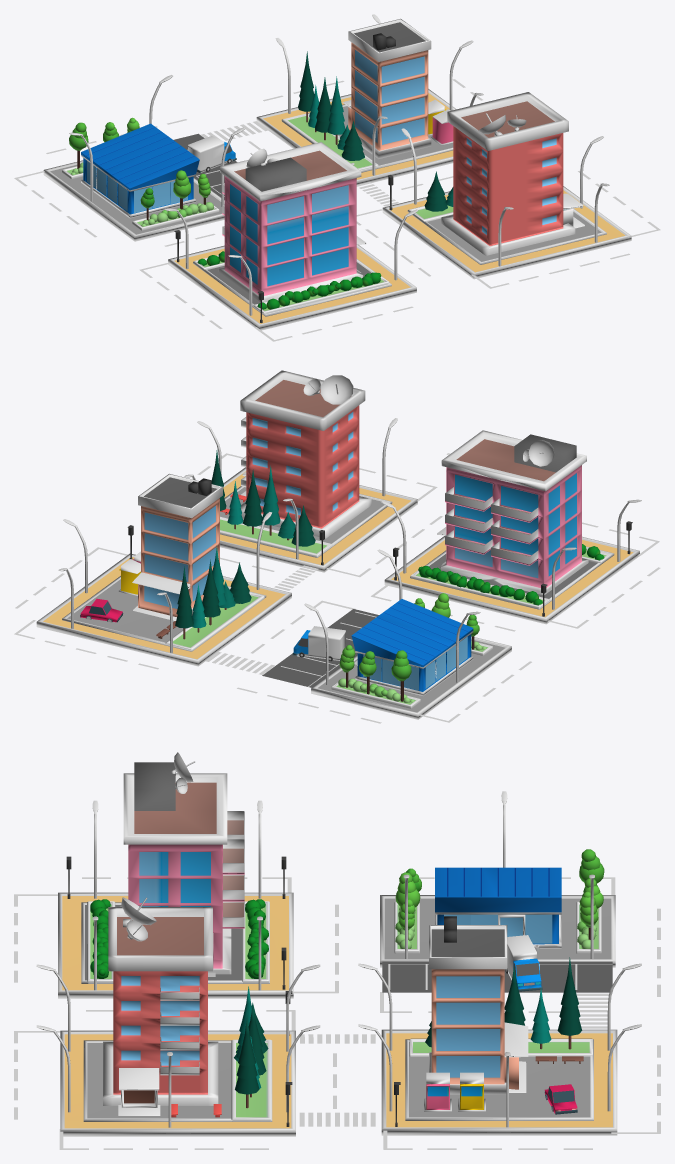
The model's file is city.fbx.
3 views of the same model, one above another, from view 1: azimuth 30°, elevation 25°; view 2: azimuth 150°, elevation 25°; view 3: azimuth 270°, elevation 25° (orthographic). The views are drawn at different scales.
Parts seen in each view (by area): view 1: city; view 2: city; view 3: city.
Part boxes in pixels (x1=…): city: x1=14, y1=14, x2=660, y2=341; city: x1=14, y1=370, x2=660, y2=723; city: x1=14, y1=752, x2=660, y2=1149.
Size of the model in its own units: 1906 by 609 by 1911.
